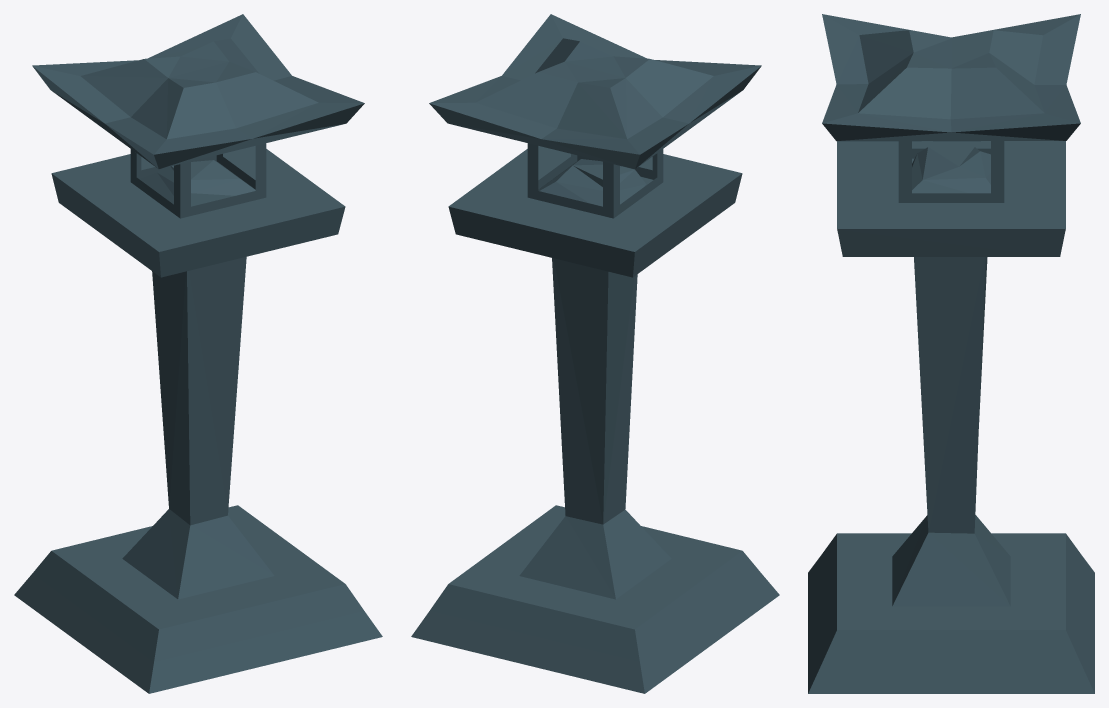
File: Checkpoint.fbx
3 views of the same model, side by side, from view 1: azimuth 30°, elevation 25°; view 2: azimuth 150°, elevation 25°; view 3: azimuth 270°, elevation 25° (orthographic). The views are drawn at different scales.
Parts seen in each view (by area): view 1: Cube; view 2: Cube; view 3: Cube.
Boxes of the visible parts, box(x1,y1,x2,y2) form: Cube: box(14, 14, 382, 693); Cube: box(411, 14, 779, 693); Cube: box(808, 14, 1094, 693).
Size of the model in its own units: 200 by 450 by 200.
